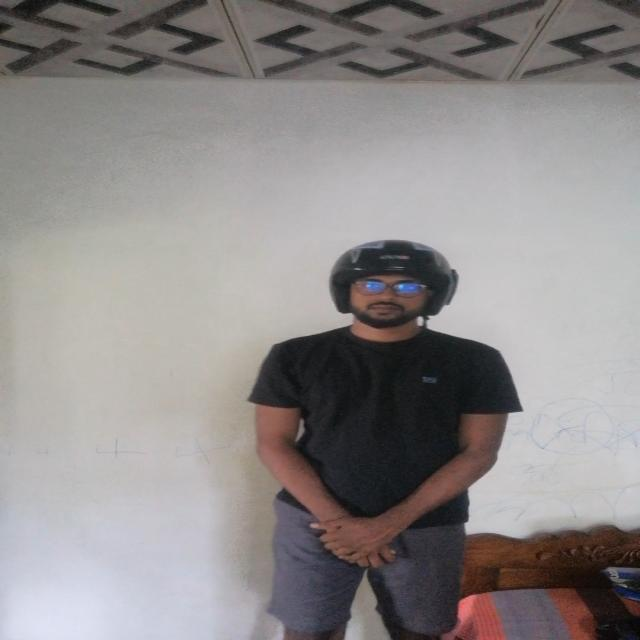Helmet_Wearer: (305, 232, 462, 348)
Person: (246, 243, 499, 640)
